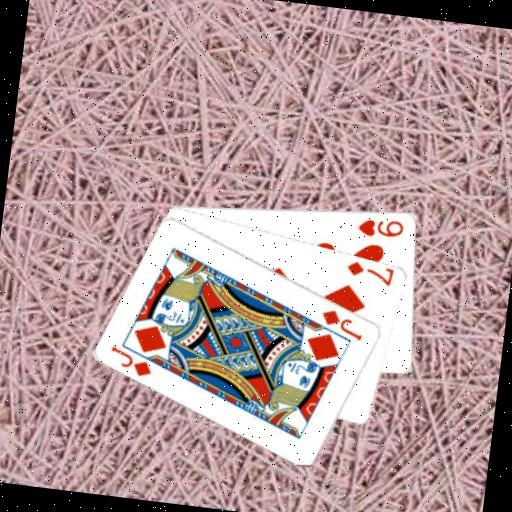7D: (343, 257, 397, 288)
9H: (354, 212, 407, 241)
JD: (317, 305, 368, 343), (106, 342, 157, 380)
